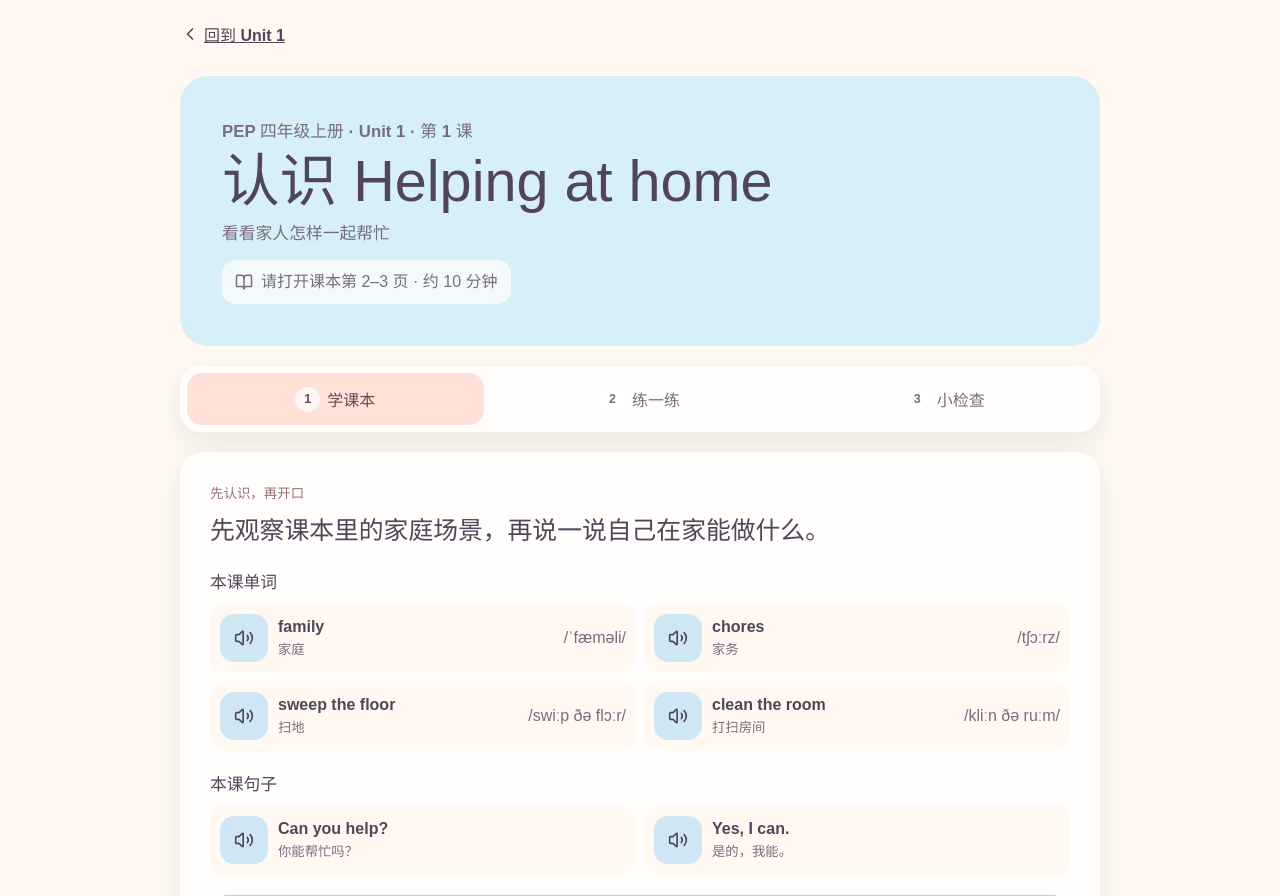
Test case: SchoolLesson › opens practice and the small check directly from the step buttons
This screenshot has width=1280, height=896.
Click the button "2 练一练" at (640, 399), box [492, 373, 788, 425]
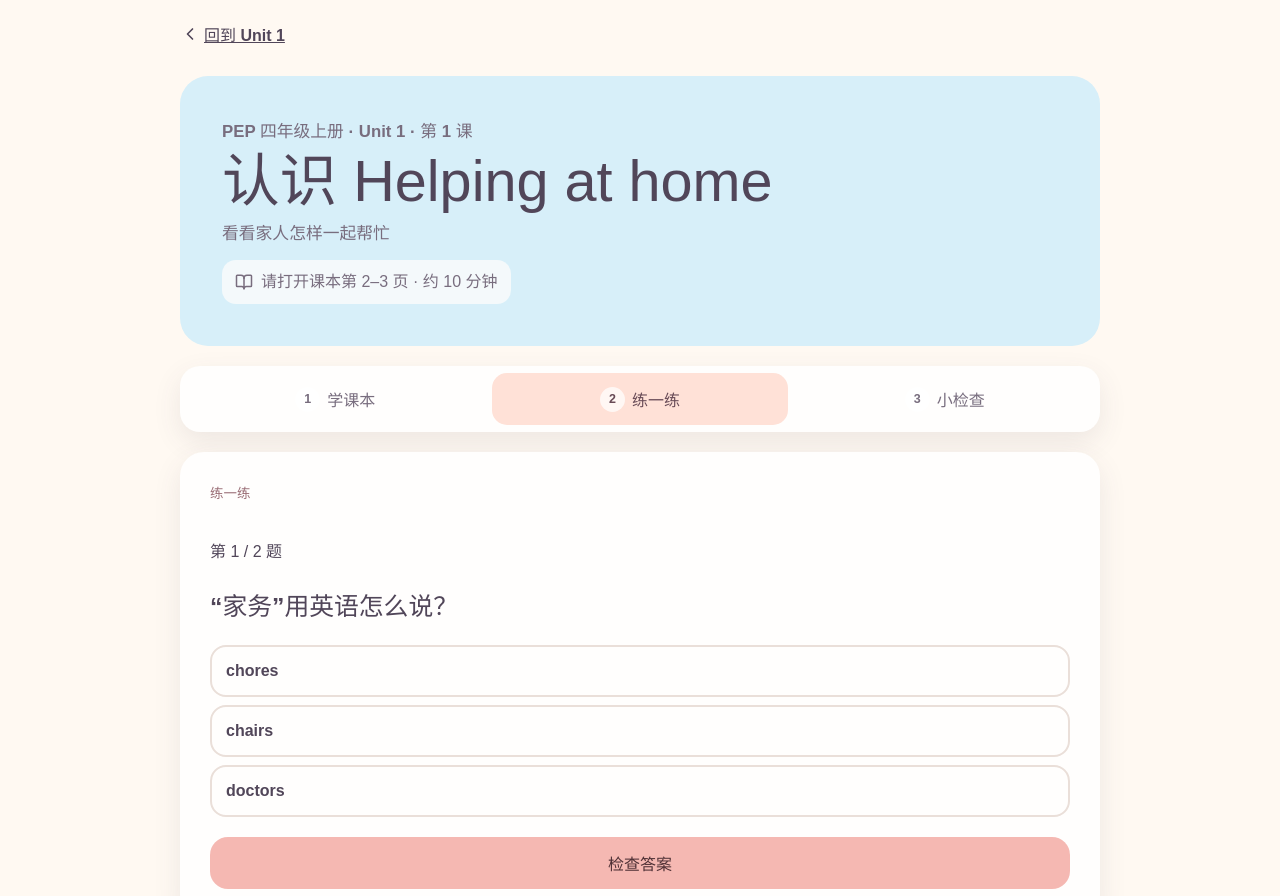
Now the heading "“家务”用英语怎么说？" is shown, box [210, 593, 458, 620]
Click the button "3 小检查" at (945, 399), box [796, 373, 1093, 425]
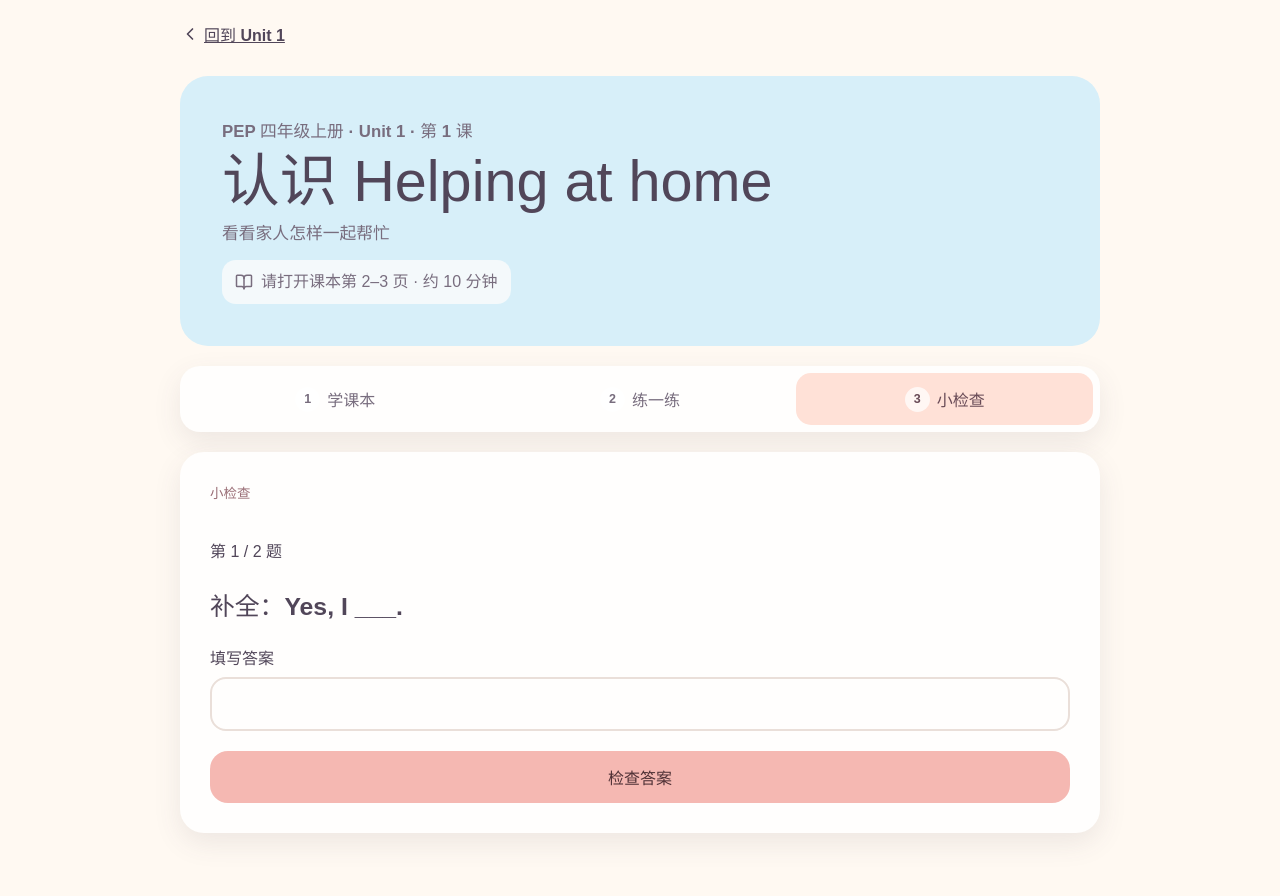
Now the heading "补全：Yes, I ___." is shown, box [210, 593, 403, 620]
